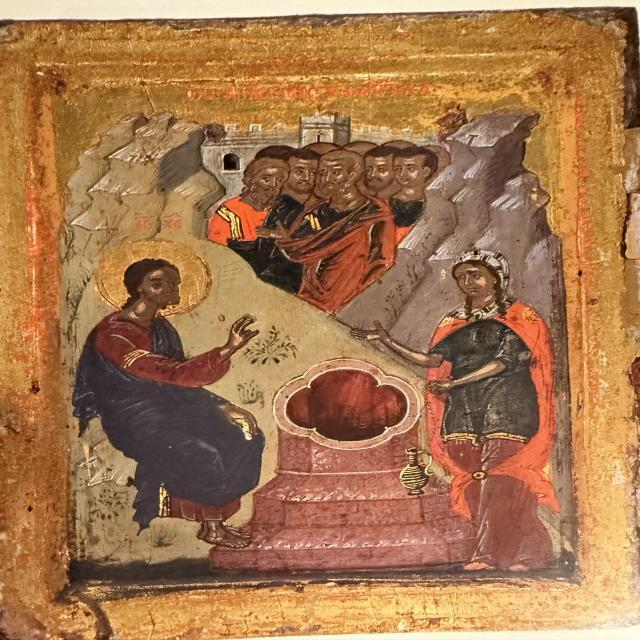aura: (92, 242, 218, 314)
christ: (74, 238, 268, 552)
christ_hand: (213, 314, 265, 363)
person: (415, 249, 561, 570), (313, 152, 389, 300), (210, 158, 298, 243), (392, 151, 440, 219)
vase: (393, 446, 445, 500)
